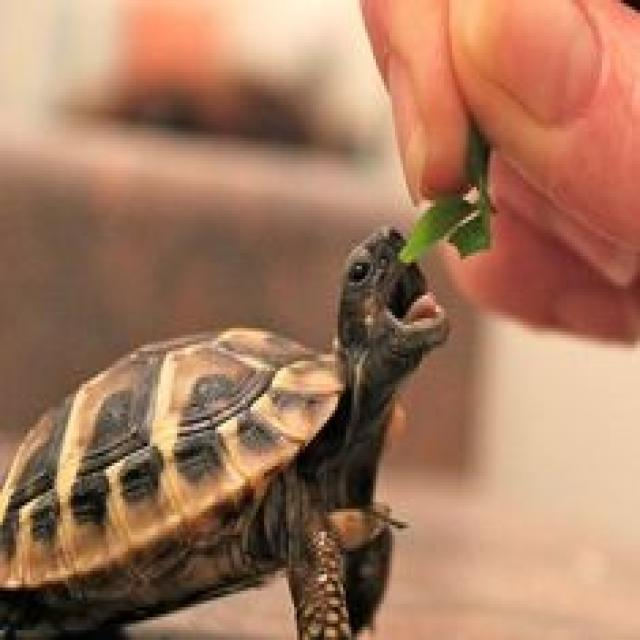Herbivorous: (0, 226, 452, 640)
